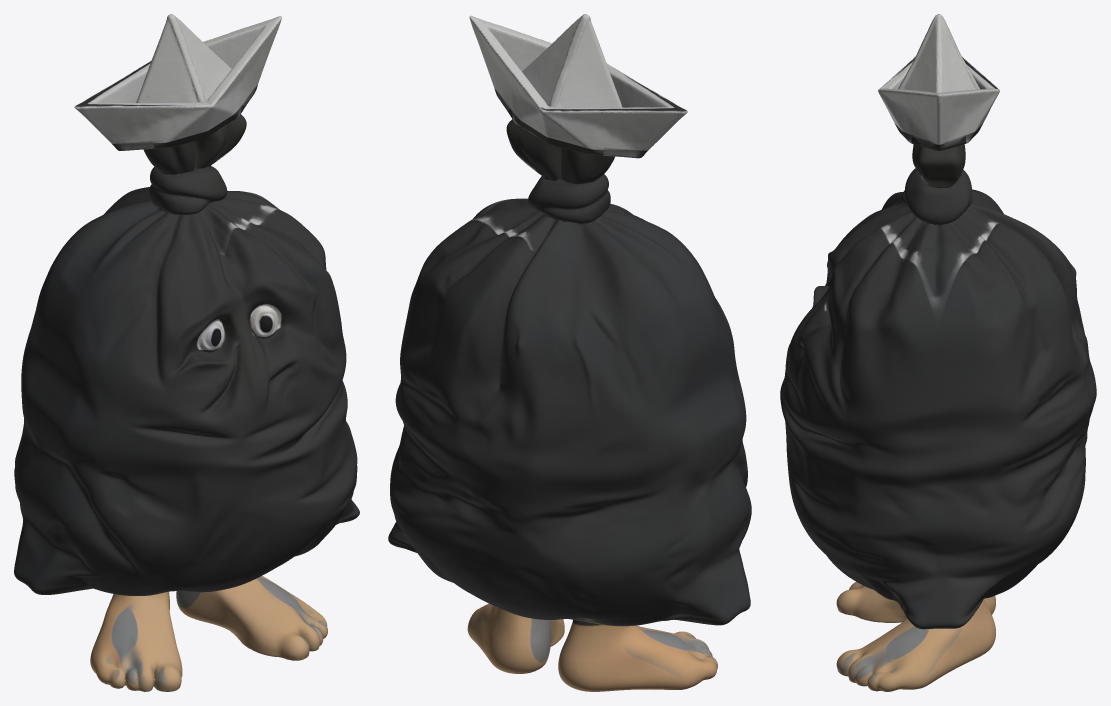
Rendered from bolsa_de_basura.glb.
3 renders of one model, left to right at view 1: azimuth 30°, elevation 25°; view 2: azimuth 150°, elevation 25°; view 3: azimuth 270°, elevation 25°, orthographic. The views are drawn at different scales.
Visible parts, largest first — view 1: tripo_node_1314b8ae-c41e-4a3d-8a64-3281f6a8cb70; view 2: tripo_node_1314b8ae-c41e-4a3d-8a64-3281f6a8cb70; view 3: tripo_node_1314b8ae-c41e-4a3d-8a64-3281f6a8cb70.
Boxes of the visible parts, x1,y1,x2,y2 form: tripo_node_1314b8ae-c41e-4a3d-8a64-3281f6a8cb70: (14, 14, 359, 691); tripo_node_1314b8ae-c41e-4a3d-8a64-3281f6a8cb70: (388, 14, 751, 691); tripo_node_1314b8ae-c41e-4a3d-8a64-3281f6a8cb70: (780, 14, 1096, 691).
Bounding box in the file's own units: 0.5425 × 1 × 0.4634.
1 material, 1 textured.
